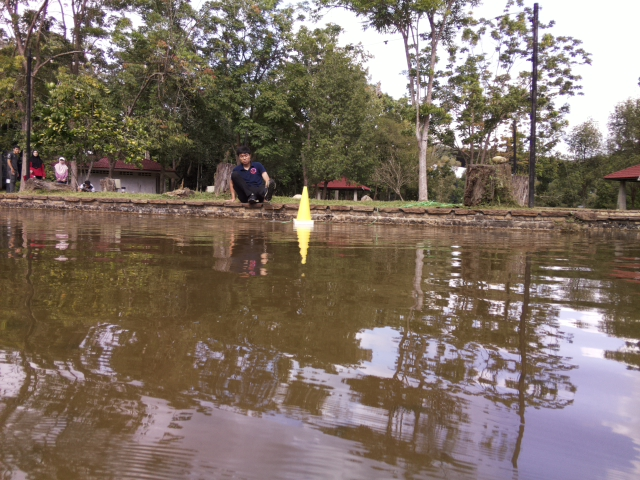checkpoint: (292, 184, 316, 227)
